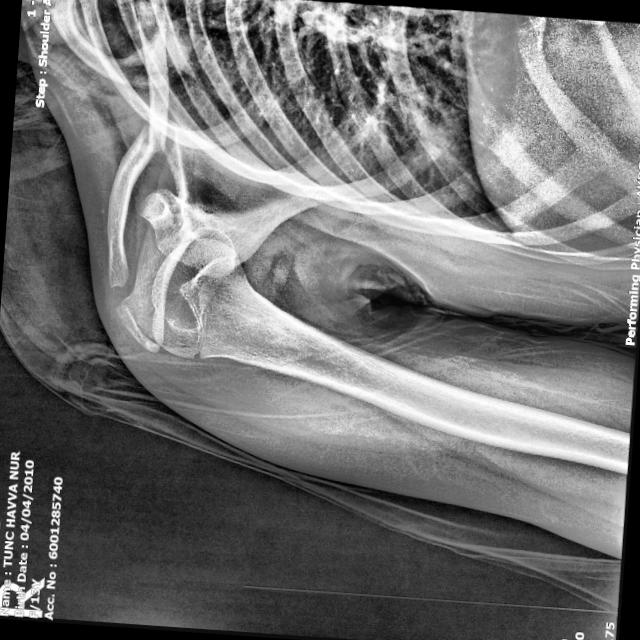Fracture: (125, 118, 172, 162)
